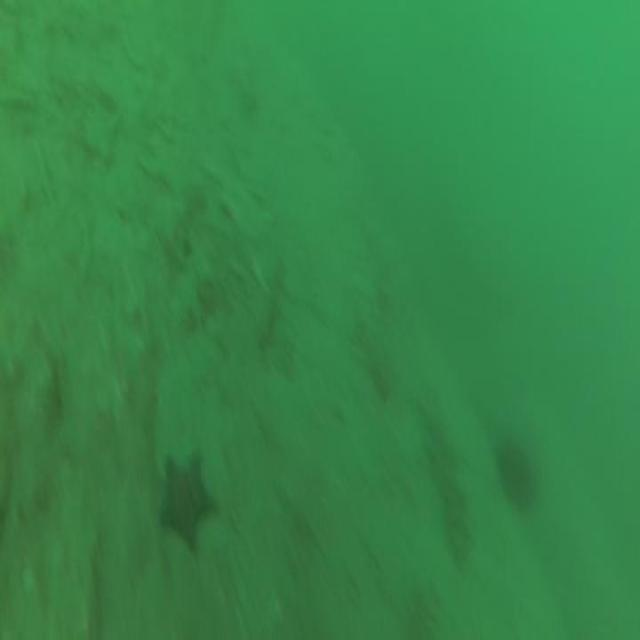echinus: (498, 440, 533, 502)
holothurian: (417, 396, 473, 574)
starfish: (159, 455, 212, 547)
